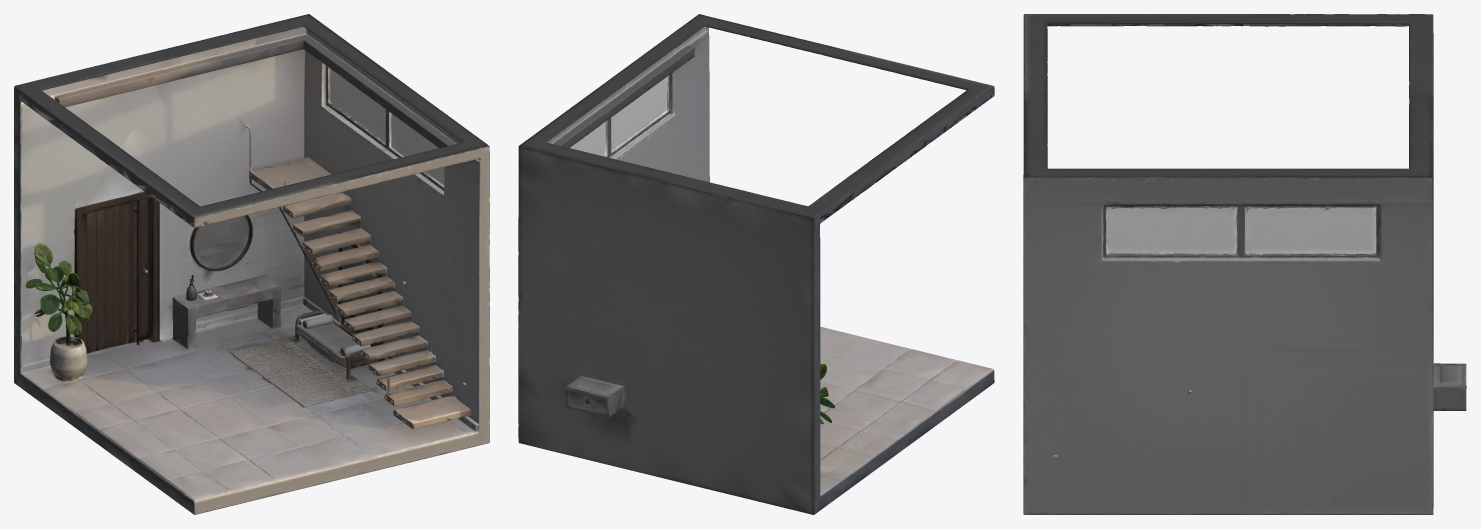
File: entree.glb
The picture shows the model from 3 angles, left to right: view 1: azimuth 30°, elevation 25°; view 2: azimuth 150°, elevation 25°; view 3: azimuth 270°, elevation 25°; orthographic projection. The views are drawn at different scales.
Parts seen in each view (by area): view 1: tripo_node_0e2fd1d5-a515-49aa-8811-800a604c7122; view 2: tripo_node_0e2fd1d5-a515-49aa-8811-800a604c7122; view 3: tripo_node_0e2fd1d5-a515-49aa-8811-800a604c7122.
Part boxes in pixels (x1,y1,x2,y2): tripo_node_0e2fd1d5-a515-49aa-8811-800a604c7122: (14,14,489,514); tripo_node_0e2fd1d5-a515-49aa-8811-800a604c7122: (518,14,994,514); tripo_node_0e2fd1d5-a515-49aa-8811-800a604c7122: (1023,14,1466,514).
Bounding box in the file's own units: 0.866 × 0.8313 × 0.9783.
1 material, 1 textured.
